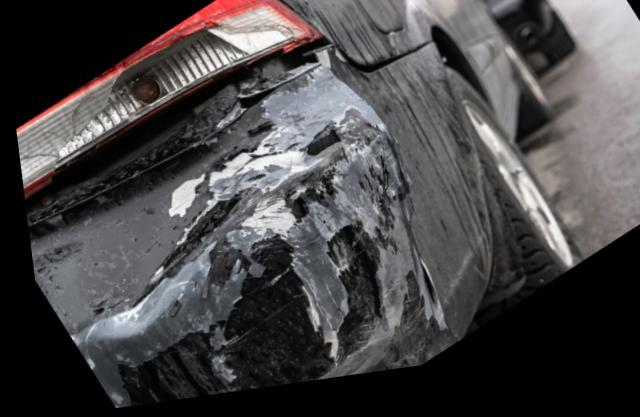lamp broken: (13, 0, 314, 210)
scratch: (58, 79, 435, 410)
